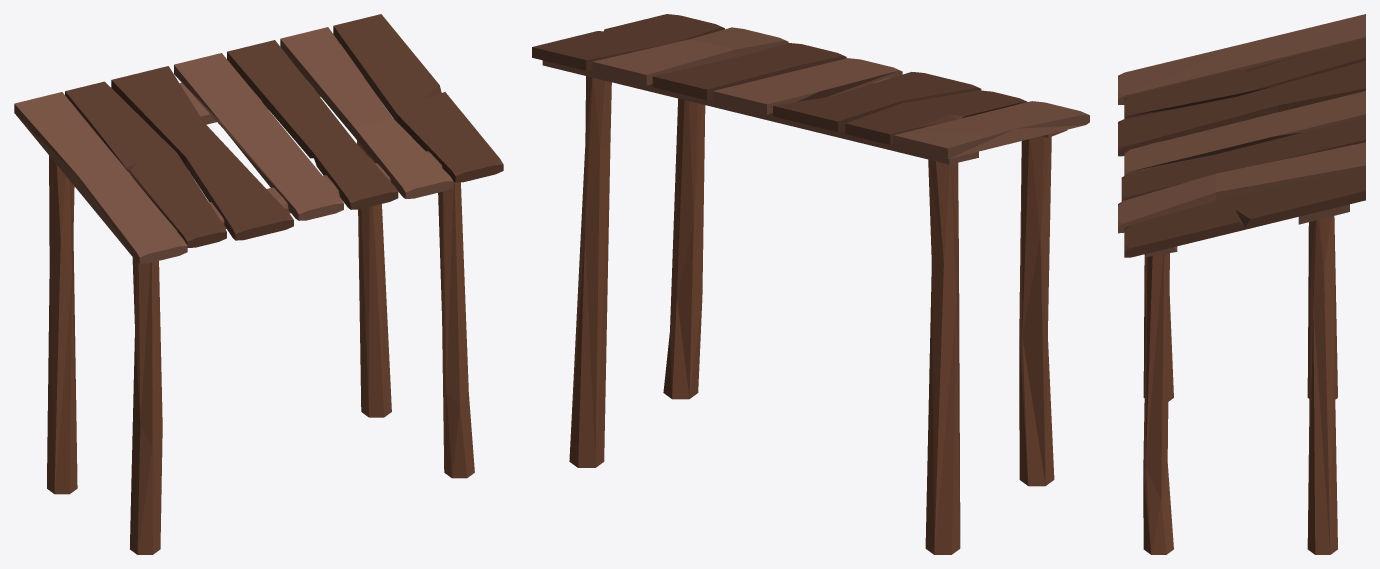
The model's file is Building_detai_1 Asia.fbx.
3 views of the same model, side by side, from view 1: azimuth 30°, elevation 25°; view 2: azimuth 150°, elevation 25°; view 3: azimuth 270°, elevation 25° (orthographic). The views are drawn at different scales.
Parts seen in each view (by area): view 1: Building_detai_1; view 2: Building_detai_1; view 3: Building_detai_1.
Part boxes in pixels (box(x1,y1,x2,y2)): Building_detai_1: box(14, 14, 503, 554); Building_detai_1: box(532, 14, 1089, 554); Building_detai_1: box(1118, 14, 1365, 554).
Size of the model in its own units: 1.94 by 1.9 by 1.15.
